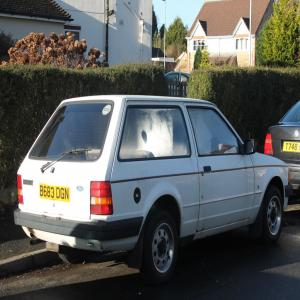Vehicle-registration-plate: (41, 186, 71, 203)
